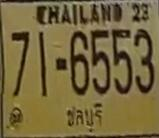1: (38, 31, 48, 98)
3: (134, 29, 156, 94)
5: (91, 29, 110, 93), (113, 29, 132, 93)
6: (69, 30, 91, 96)
7: (11, 31, 31, 96)
CBI: (60, 102, 104, 130)
